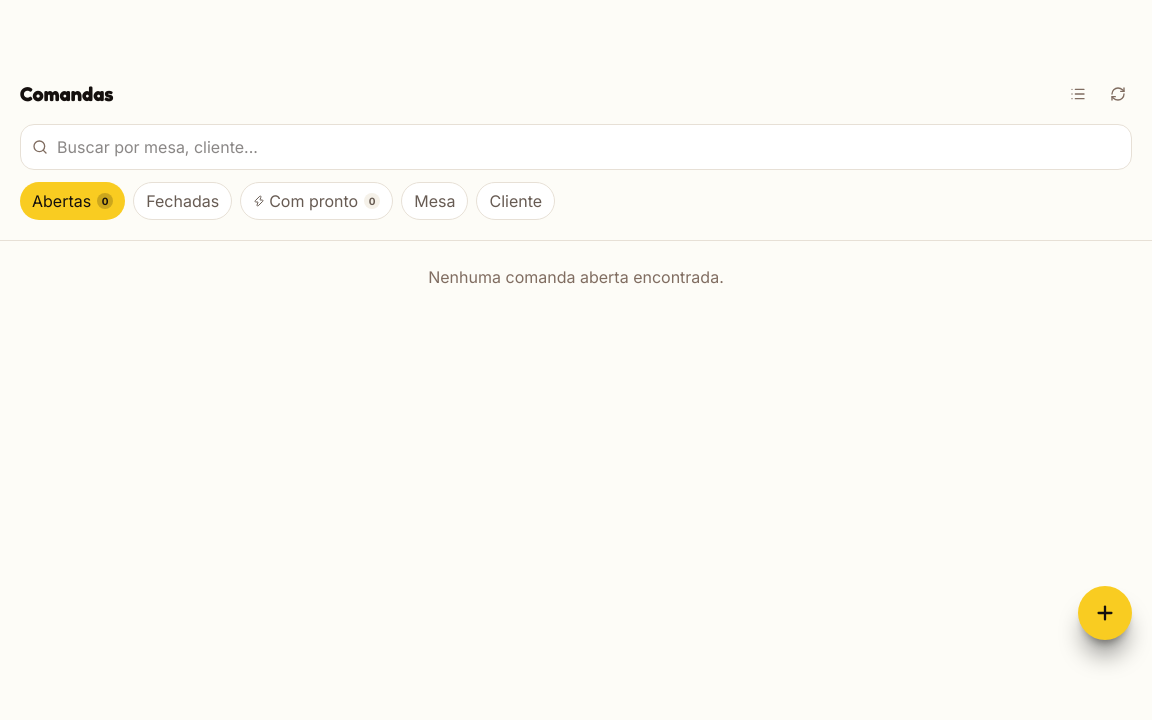
Test: OrderListScreen › selecionar modo no menu altera visualização
Click the button named "Modo de visualização: Lista": (1078, 94) x1=1064 y1=80 x2=1092 y2=108
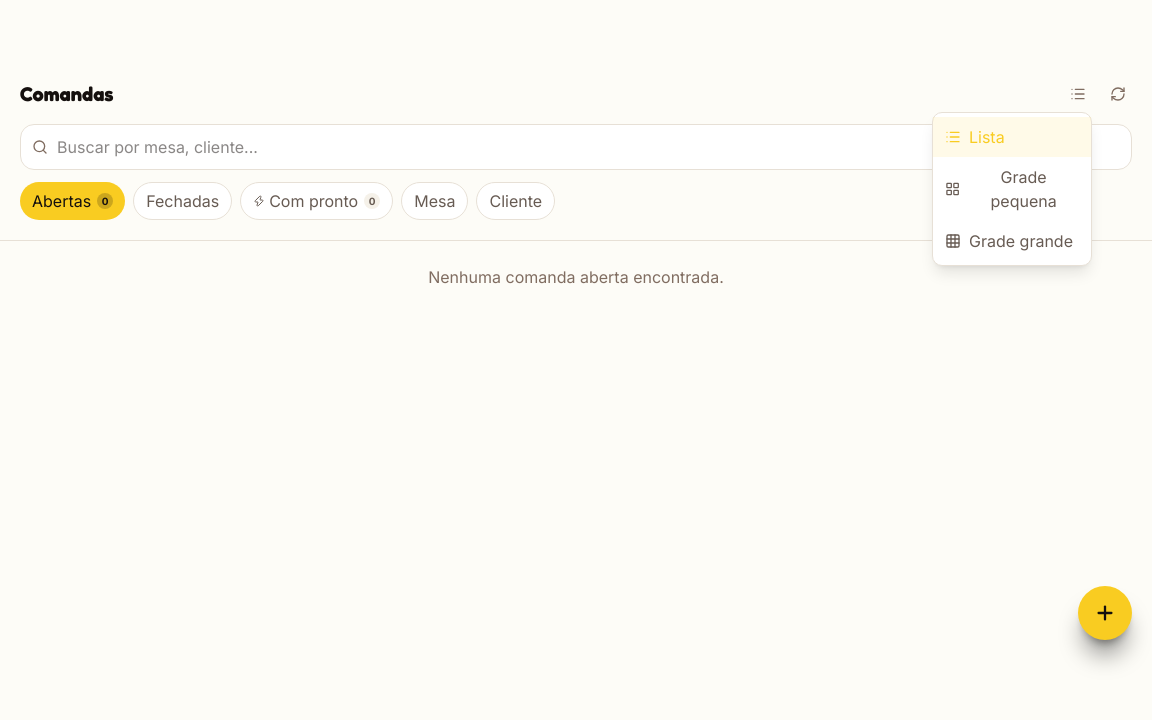
Click the menu item "Grade pequena": (1012, 189) x1=933 y1=157 x2=1091 y2=221
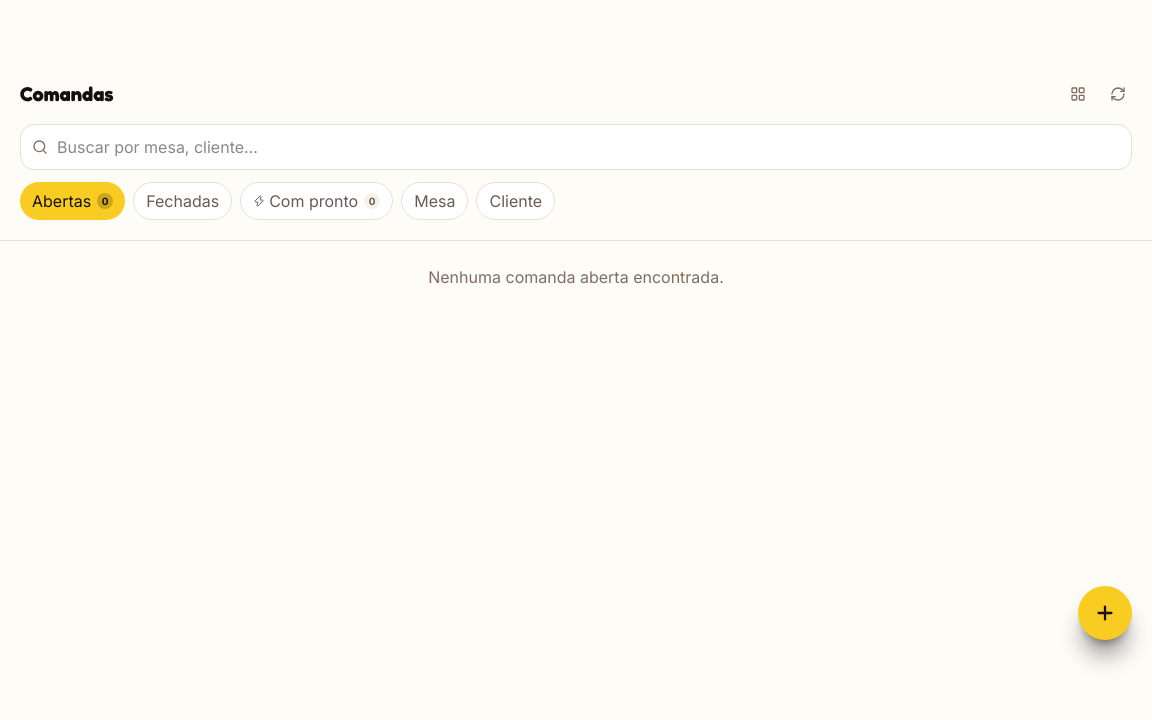
Check: the menu item "Grade pequena" is gone
Check: the button named "Modo de visualização: Grade pequena" is shown, box x1=1064 y1=80 x2=1092 y2=108
